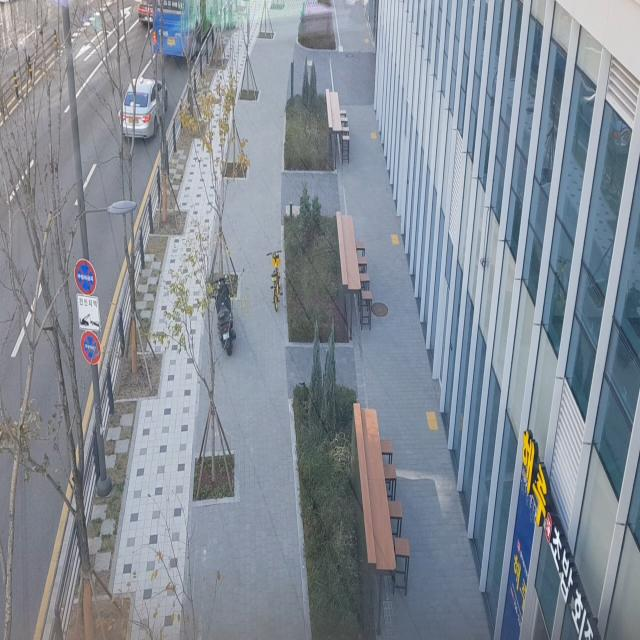Bus: (143, 0, 234, 72)
Car: (116, 65, 175, 148), (136, 0, 157, 27)
